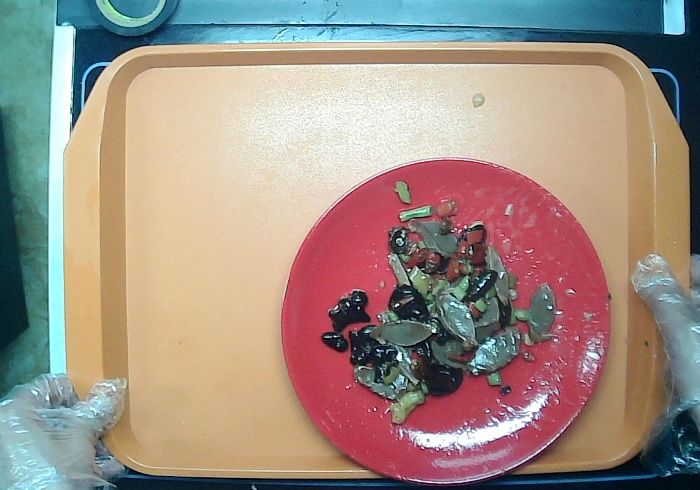HZYJPL-Hong_Se_Yuan_Pan: (278, 155, 611, 490)
